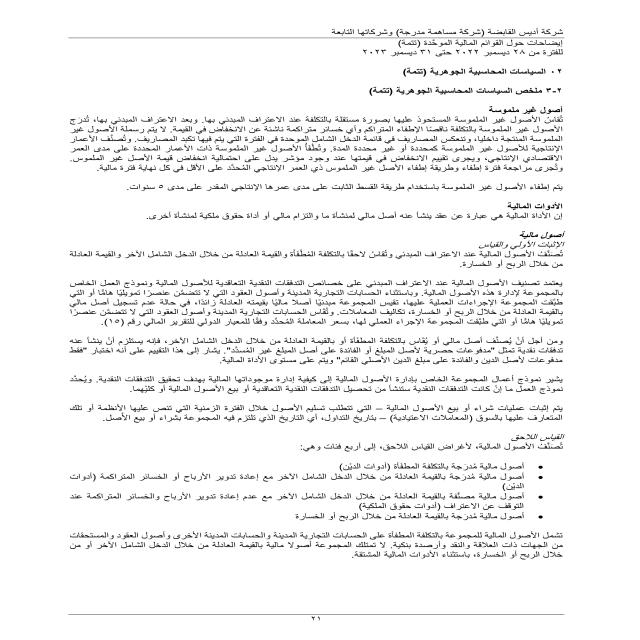notes: (388, 39, 567, 48)
text: (35, 74, 571, 561)
